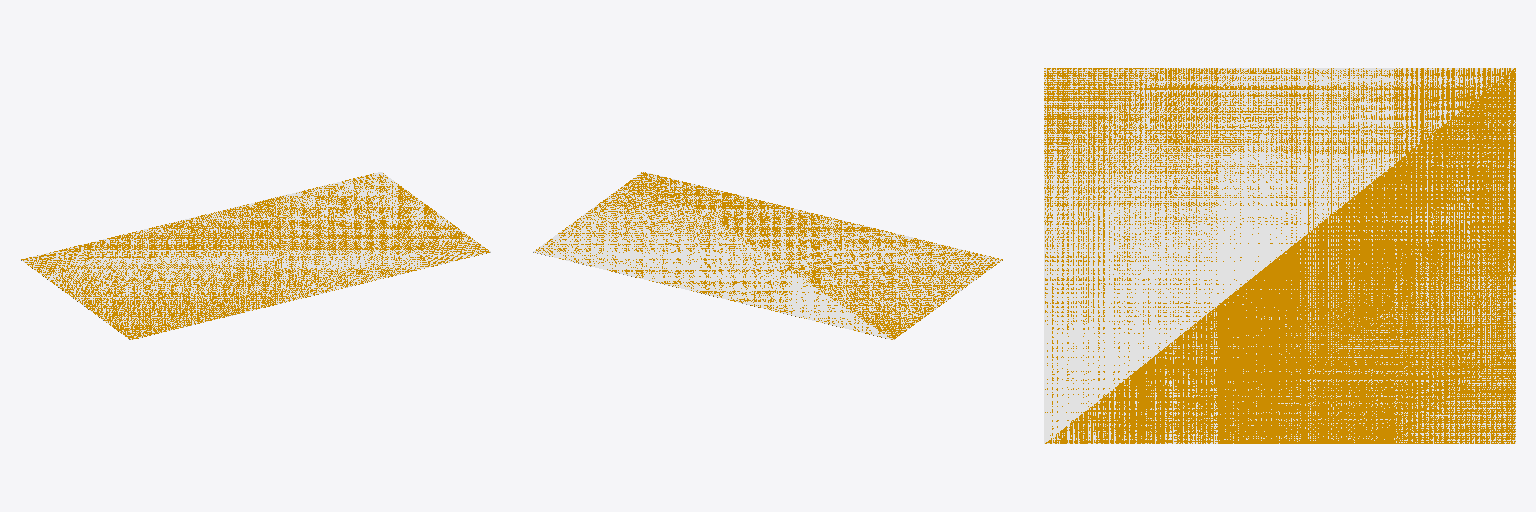
URDF robot description (my_object):
<?xml version="1.0" ?> 
<robot name="my_object" static="true">
  <link name="base_link">
  <inertial>
    <mass value="0.876" />
    <origin xyz="0 0 0.0" />
    <inertia ixx="1.0" ixy="0.0" ixz="0.0" iyy="1.0" iyz="0.0" izz="1.0"/>
  </inertial>
  <visual>
   <origin xyz="0 0 0.0" rpy="0 0 0" />
   <geometry>
     <mesh filename="package://ensta_gazebo_objects/Media/models/carpet.dae" scale="20.0 7.0 0.01"/>
   </geometry>
  </visual>
  <collision>
   <origin xyz="0 0 0" rpy="0 0 0" />
   <geometry>
     <mesh filename="package://ensta_gazebo_objects/Media/models/carpet.dae" scale="20.0 7.0 0.01"/>
   </geometry>
  </collision>     
  </link>

<gazebo>
	<static>true</static>
</gazebo>
</robot>

--- What the picture shows (computed from the rendered views, not written in the file) ---
Views: 3 orthographic renders of the robot side by side, from view 1: azimuth 30°, elevation 25°; view 2: azimuth 150°, elevation 25°; view 3: azimuth 270°, elevation 25°.
Model my_object with 1 links and 0 joints (none), rooted at base_link, posed every joint at zero.
Links seen in each view (by area): view 1: base_link; view 2: base_link; view 3: base_link.
Boxes of the visible links, left/top/right/bottom form: base_link: left=21, top=172, right=490, bottom=339; base_link: left=533, top=172, right=1002, bottom=339; base_link: left=1044, top=68, right=1515, bottom=443.
Bounding box of the posed robot: 3.96 × 2.1 × 0.0014 m (x, y, z).
1 mesh visuals loaded from 1 distinct referenced files (1 Collada DAE).